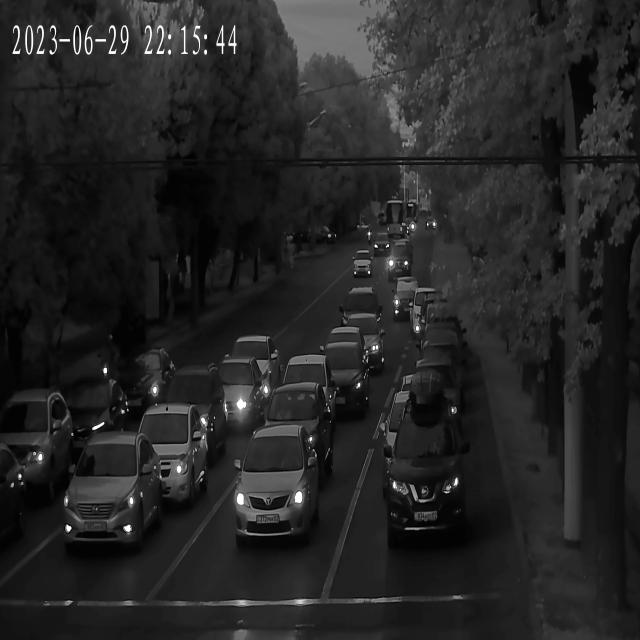Car: (383, 386, 469, 546), (60, 434, 164, 552), (236, 428, 319, 545), (0, 391, 72, 503), (128, 407, 208, 505), (251, 388, 333, 483), (157, 369, 229, 457), (103, 345, 178, 419), (292, 342, 367, 414), (276, 354, 336, 422), (204, 362, 264, 428), (401, 355, 465, 411), (223, 336, 280, 393), (0, 441, 26, 554), (324, 329, 374, 381), (415, 332, 468, 380), (340, 288, 384, 330), (409, 290, 450, 334), (393, 278, 427, 321), (385, 248, 411, 284), (352, 254, 373, 280), (371, 235, 391, 255)
